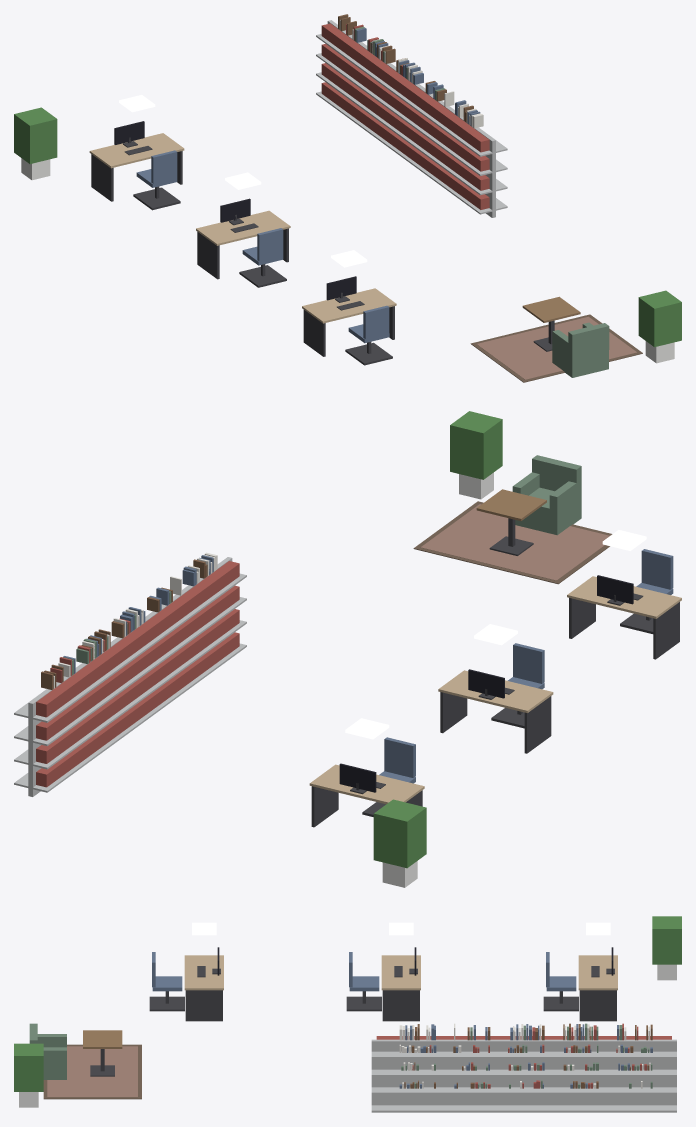
Rendered from fine-s1.glb.
The picture shows the model from 3 angles, top to bottom: view 1: azimuth 30°, elevation 25°; view 2: azimuth 150°, elevation 25°; view 3: azimuth 270°, elevation 25°; orthographic projection. The views are drawn at different scales.
Parts seen in each view (by area): view 1: soft-s1, shelving.005, shelving.001, shelving.003, office-desk-real.000, office-desk-real.001, office-desk-real.002, plant-medium.000, plant-medium.001, sofa.000, shelving.002, shelving.004 (+4 smaller); view 2: soft-s1, shelving.001, shelving.005, office-desk-real.001, office-desk-real.002, shelving.002, shelving.003, plant-medium.001, sofa.000, plant-medium.000, office-desk-real.000, shelving.004 (+4 smaller); view 3: soft-s1, shelving.001, shelving.004, shelving.005, shelving.003, shelving.002, office-desk-real.000, office-desk-real.001, office-desk-real.002, plant-medium.000, plant-medium.001, sofa.000 (+7 smaller).
Boxes of the visible parts, x1,y1,x2,y2 form: soft-s1: (338,14,642,382); shelving.005: (432,107,507,217); shelving.001: (316,20,373,127); shelving.003: (374,63,443,171); office-desk-real.000: (89,121,184,201); office-desk-real.001: (196,198,290,279); office-desk-real.002: (302,276,396,356); plant-medium.000: (638,290,681,363); plant-medium.001: (14,107,57,180); sofa.000: (552,322,609,377); shelving.002: (345,42,419,148); shelving.004: (403,85,463,191); soft-s1: (41,501,612,689); shelving.001: (14,663,105,796); shelving.005: (173,557,246,688); office-desk-real.001: (438,669,553,753); office-desk-real.002: (567,575,681,659); shelving.002: (68,636,140,764); shelving.003: (110,610,175,740); plant-medium.001: (373,799,426,887); sofa.000: (512,455,581,535); plant-medium.000: (450,411,502,499); office-desk-real.000: (309,763,424,827); shelving.004: (142,584,210,709); soft-s1: (43,1023,652,1099); shelving.001: (588,1036,676,1112); shelving.004: (426,1036,514,1112); shelving.005: (371,1036,460,1112); shelving.003: (480,1036,568,1112); shelving.002: (534,1036,622,1112); office-desk-real.000: (578,947,617,1021); office-desk-real.001: (381,947,420,1021); office-desk-real.002: (184,947,223,1021); plant-medium.000: (14,1043,43,1107); plant-medium.001: (652,916,681,980); sofa.000: (29,1023,66,1079).
Bounding box in the file's own units: 7.12 × 1.93 × 13.56.
